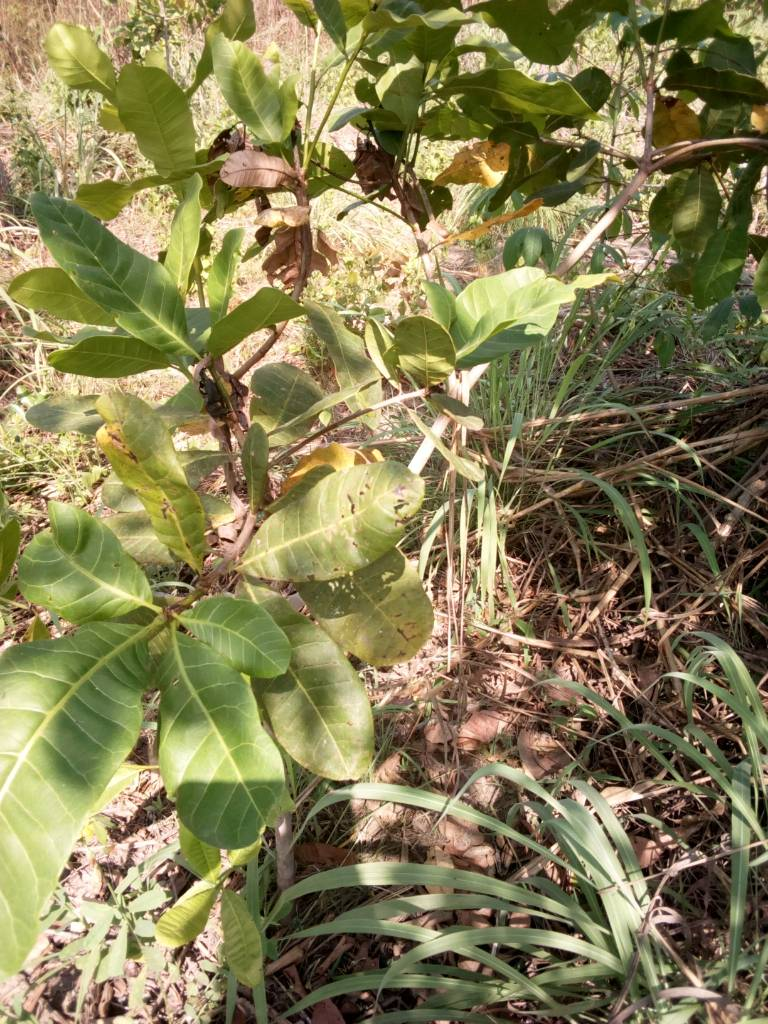Anthracnose: (230, 460, 429, 574), (102, 375, 215, 566), (336, 558, 440, 664)
